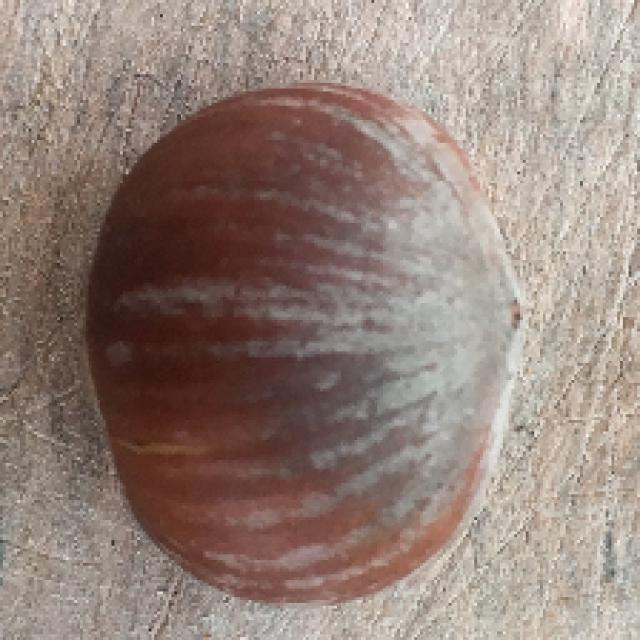damagedHazelnut: (80, 81, 526, 602)
